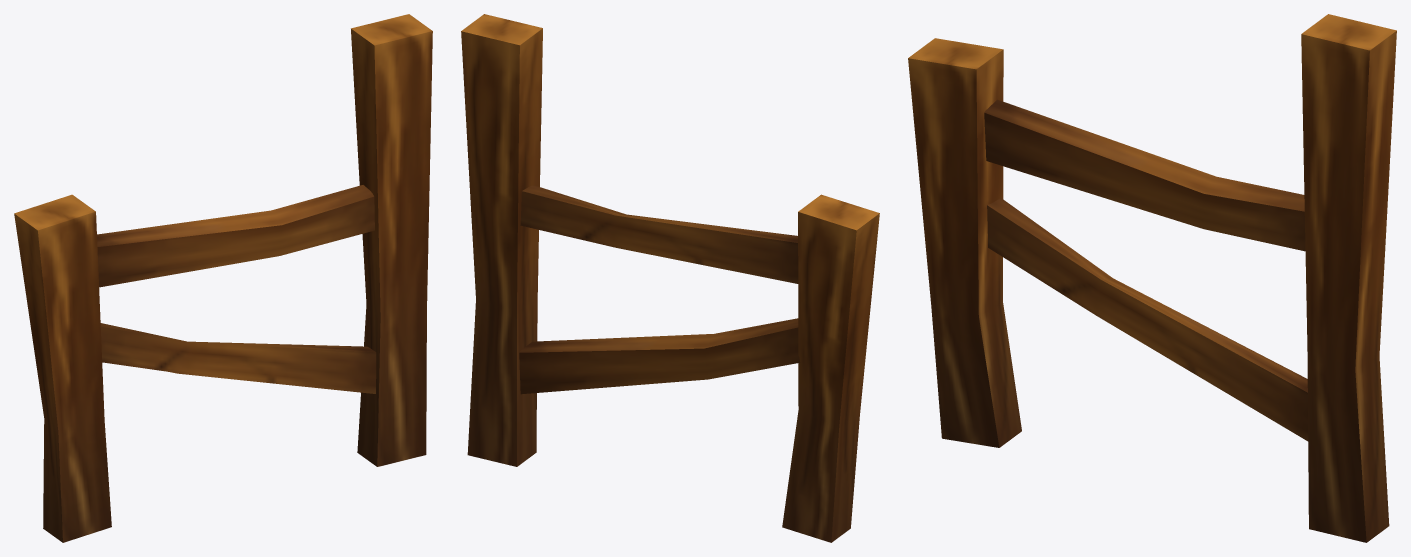
The model's file is fence_5.fbx.
3 views of the same model, side by side, from view 1: azimuth 30°, elevation 25°; view 2: azimuth 150°, elevation 25°; view 3: azimuth 330°, elevation 25° (orthographic). The views are drawn at different scales.
Visible parts, largest first — view 1: fence_5; view 2: fence_5; view 3: fence_5.
Part boxes in pixels (bbox=[...]): fence_5: bbox=[14, 14, 432, 542]; fence_5: bbox=[461, 14, 879, 542]; fence_5: bbox=[908, 14, 1396, 542].
Bounding box in the file's own units: 1.27 × 1.3 × 0.1487.
